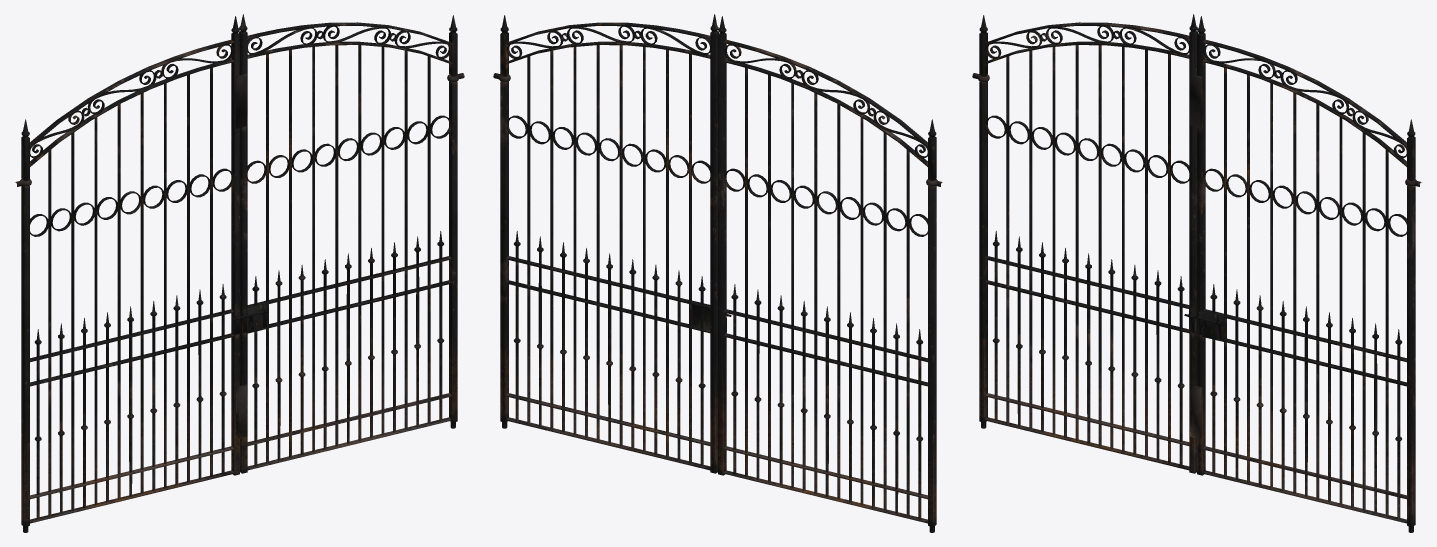
The model's file is iron_gate.glb.
The picture shows the model from 3 angles, left to right: view 1: azimuth 30°, elevation 25°; view 2: azimuth 150°, elevation 25°; view 3: azimuth 330°, elevation 25°; orthographic projection.
Parts seen in each view (by area): view 1: large_iron_gate_right_door; view 2: large_iron_gate_right_door; view 3: large_iron_gate_right_door.
Part boxes in pixels (<box>): large_iron_gate_right_door: <box>15,14,464,532</box>; large_iron_gate_right_door: <box>493,14,942,532</box>; large_iron_gate_right_door: <box>972,14,1421,532</box>.
Size of the model in its own units: 2.95 by 2.93 by 0.0972.
Materials: 1 (1 with a texture image).
